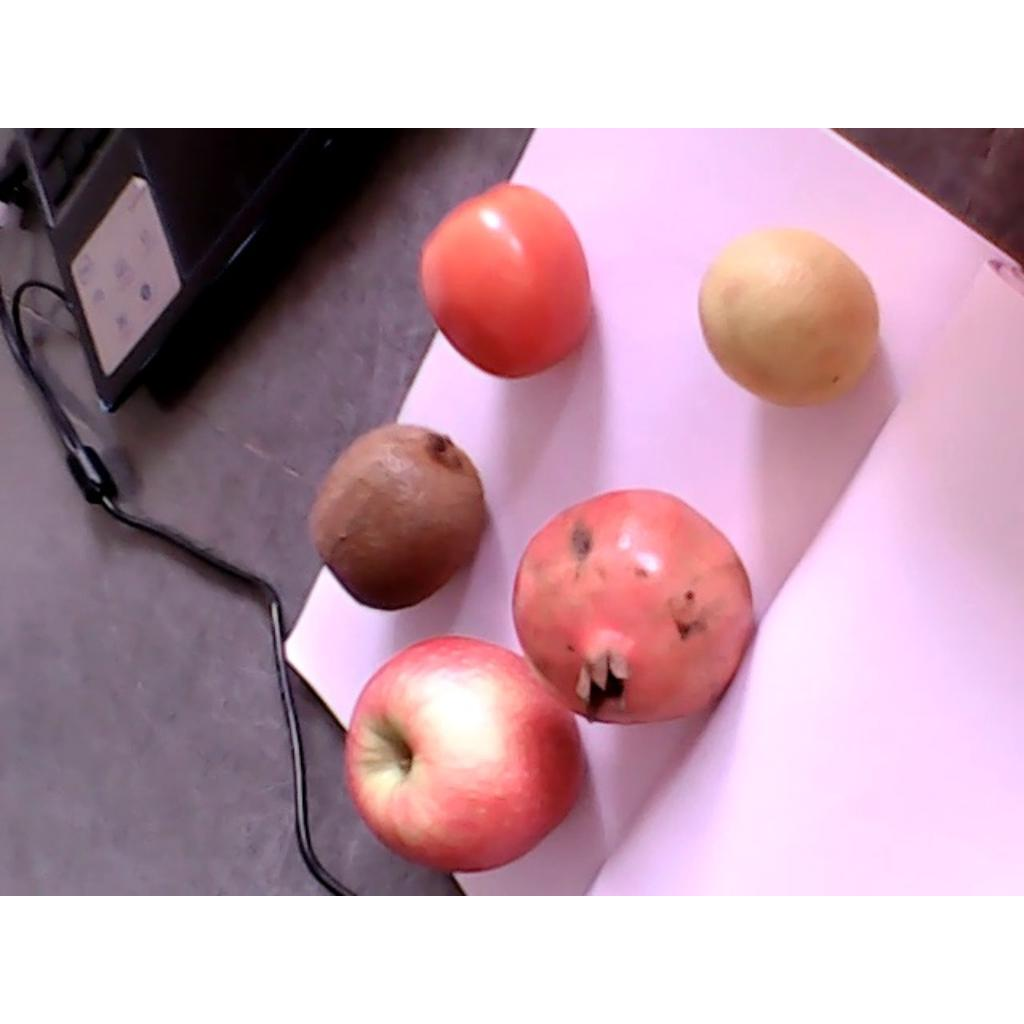apple: (345, 636, 584, 871)
kiwi: (307, 424, 484, 607)
lemon: (698, 231, 878, 405)
pomegranate: (513, 489, 751, 723)
tomato: (419, 182, 592, 377)
